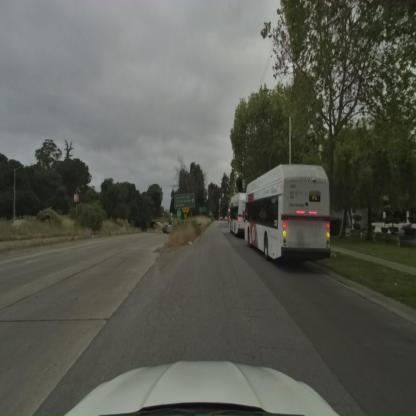bus: (241, 164, 332, 264), (228, 192, 248, 237)
